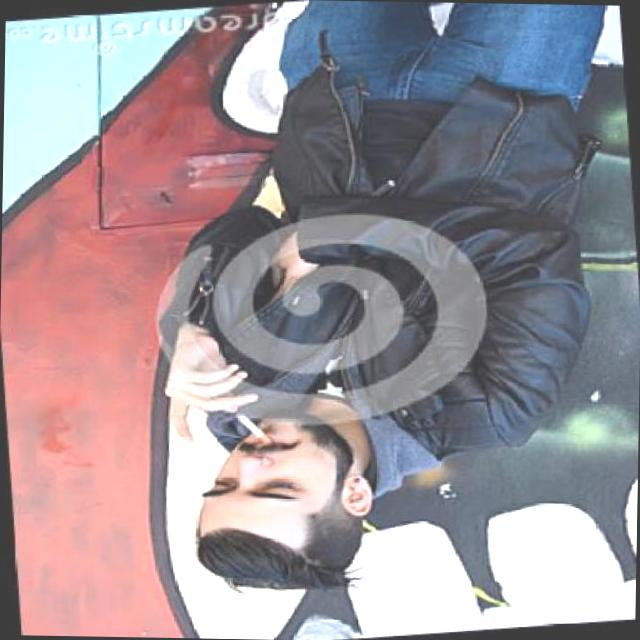smoke: (232, 408, 276, 449)
